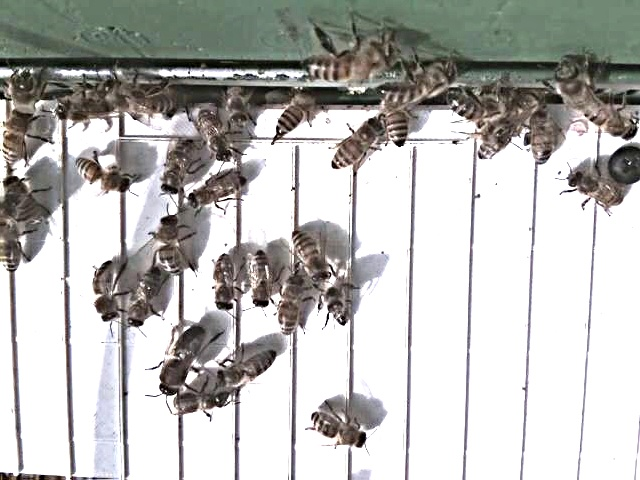Drone: (155, 320, 208, 400)
Worker: (325, 117, 381, 177), (210, 348, 281, 390), (562, 168, 622, 214), (306, 409, 369, 451), (69, 156, 135, 196), (158, 137, 198, 201), (123, 266, 162, 331), (186, 174, 250, 212), (87, 259, 122, 327), (289, 228, 330, 286), (0, 106, 36, 171), (194, 109, 234, 166), (273, 276, 306, 341), (154, 210, 186, 277), (169, 388, 233, 420), (524, 105, 555, 170), (0, 211, 27, 276), (245, 249, 272, 312), (210, 252, 236, 317), (383, 92, 410, 153)
